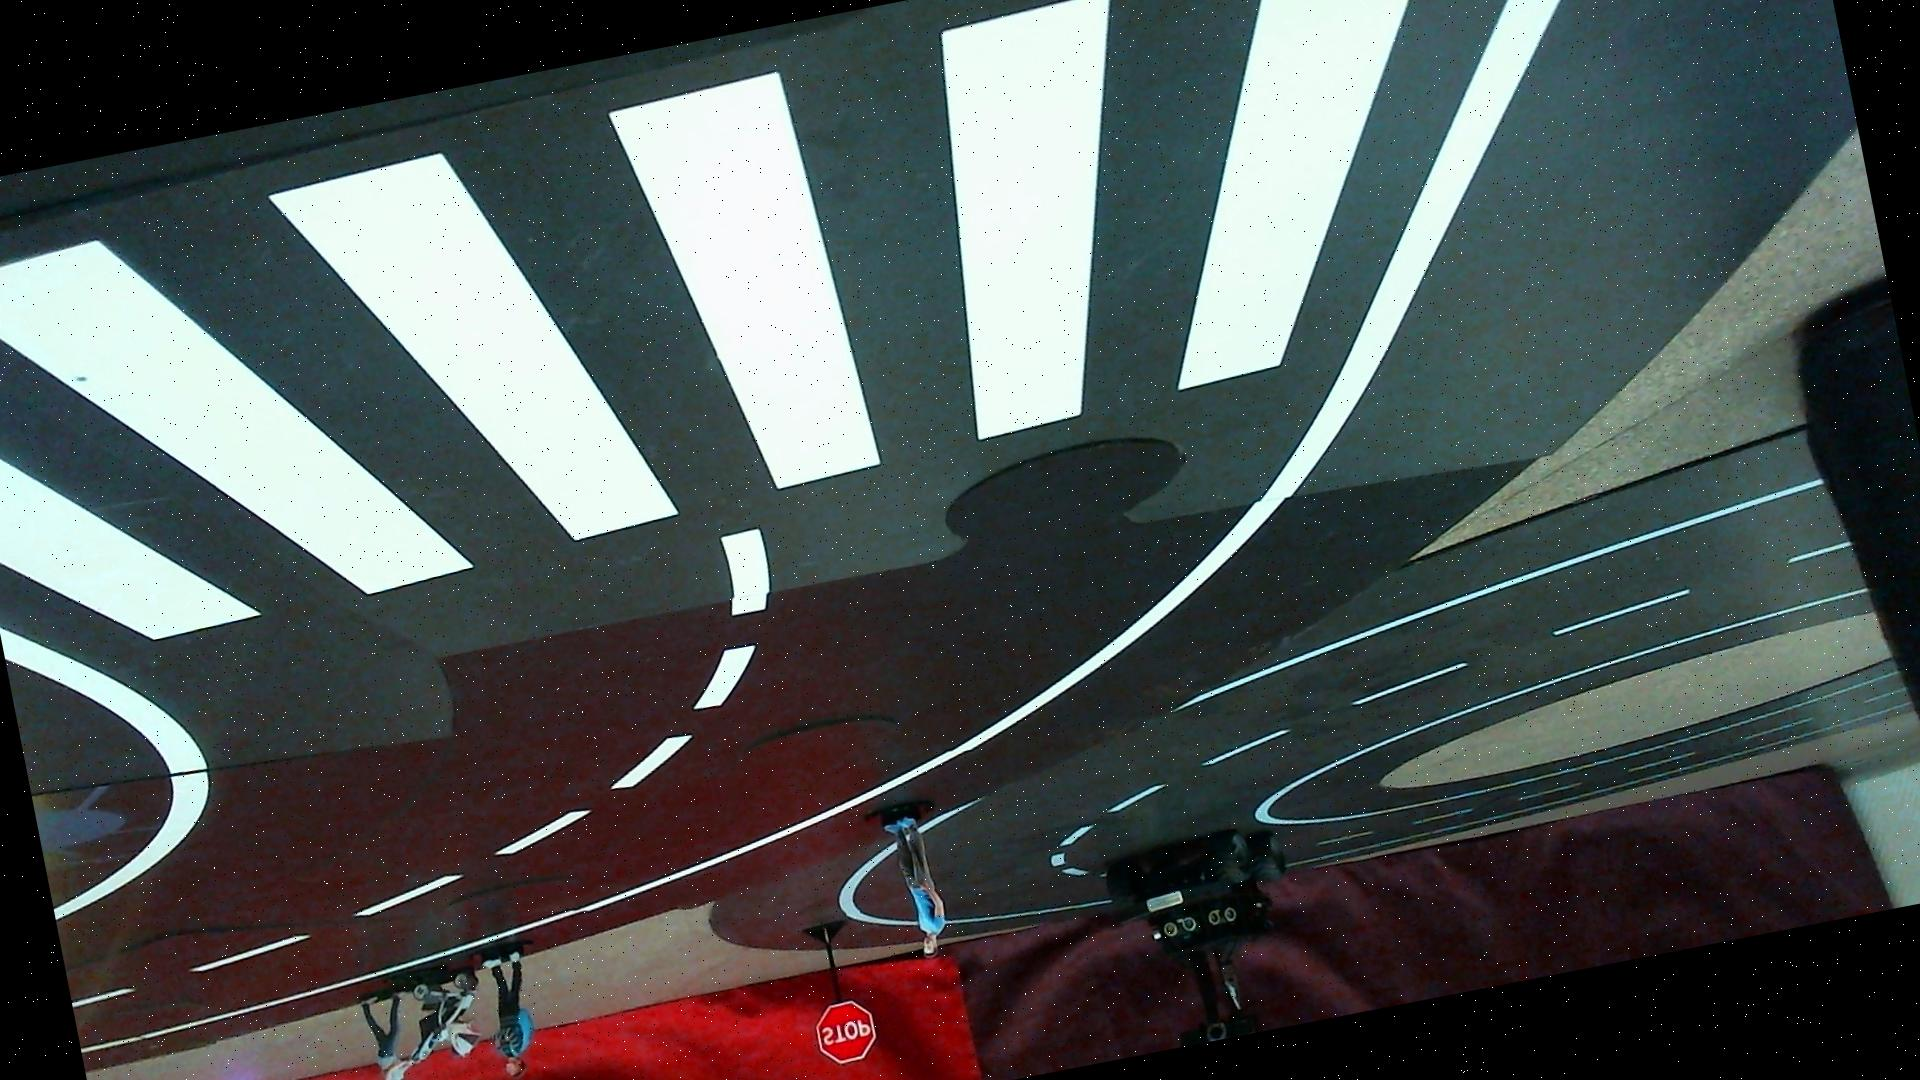crossing: (0, 0, 1572, 676)
person: (350, 956, 487, 1080), (878, 808, 951, 964), (478, 946, 547, 1080)
